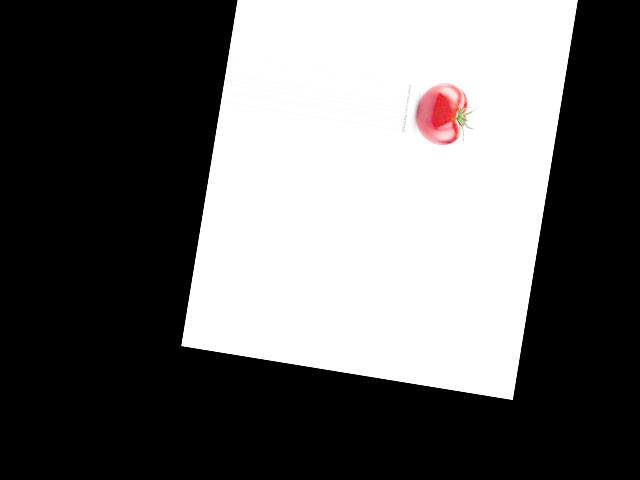tomato: (412, 79, 470, 148)
